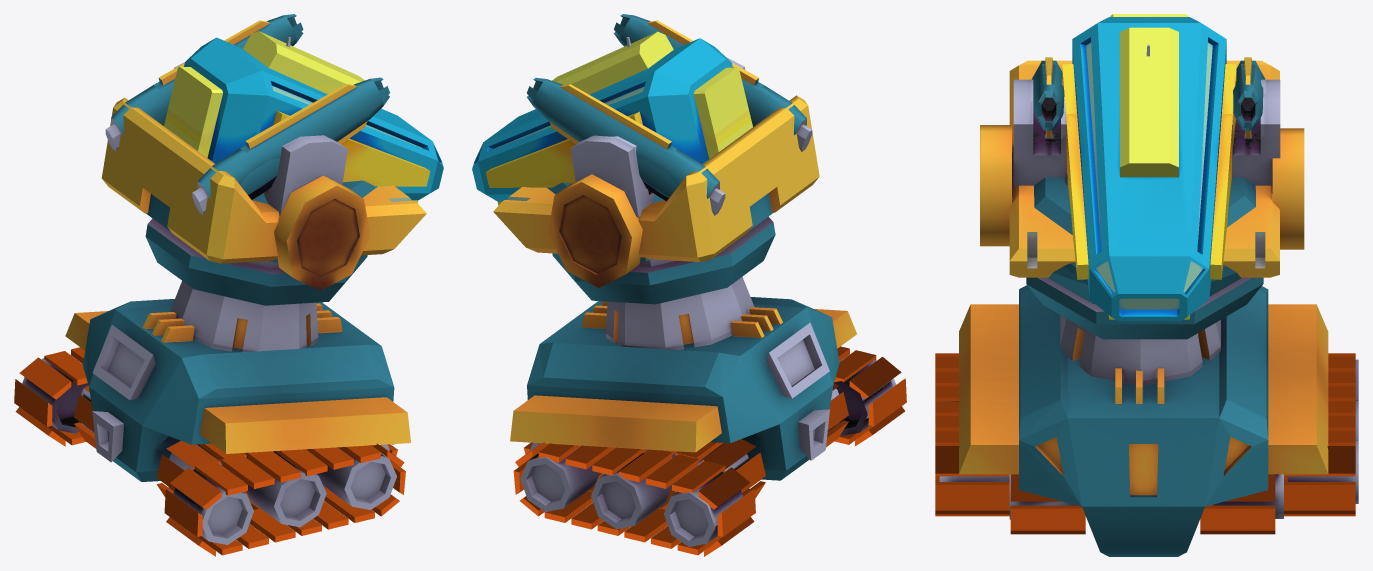
Rendered from Player_move_2_Upgrade9.obj.
3 views of the same model, side by side, from view 1: azimuth 30°, elevation 25°; view 2: azimuth 150°, elevation 25°; view 3: azimuth 270°, elevation 25° (orthographic). The views are drawn at different scales.
Visible parts, largest first — view 1: Object015, Box020, Object014, Box018, Box019, Box017, Box016; view 2: Object015, Box019, Object014, Box018, Box020, Box016, Box017; view 3: Object015, Box019, Box020, Object014, Box017, Box016, Box018, Box009.
Part boxes in pixels (box(x1,y1,x2,y2)): Object015: box(65, 31, 443, 481); Box020: box(164, 443, 405, 556); Object014: box(105, 14, 389, 214); Box018: box(22, 358, 396, 544); Box019: box(14, 347, 87, 446); Box017: box(156, 441, 397, 509); Box016: box(74, 385, 96, 448); Object015: box(472, 31, 856, 480); Box019: box(513, 442, 755, 556); Object014: box(527, 14, 812, 215); Box018: box(520, 360, 895, 546); Box020: box(834, 346, 906, 446); Box016: box(524, 439, 765, 509); Box017: box(826, 383, 848, 447); Object015: box(959, 14, 1328, 556); Box019: box(1284, 353, 1355, 516); Box020: box(935, 353, 1009, 516); Object014: box(1031, 57, 1265, 137); Box017: box(1010, 474, 1085, 534); Box016: box(1200, 474, 1275, 534); Box018: box(939, 359, 1358, 503); Box009: box(1009, 474, 1283, 519).
Bounding box in the file's own units: 70.38 × 88.9 × 68.55.
Materials: 6 (4 with a texture image).
